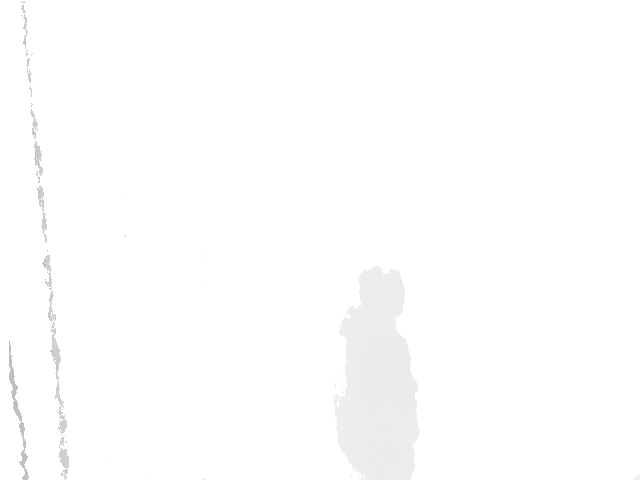head: (359, 267, 407, 325)
person: (333, 267, 420, 480)
